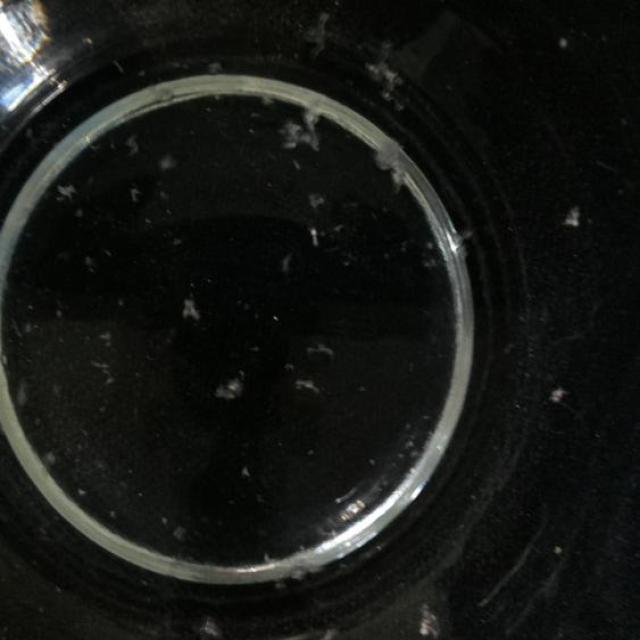fiber: (363, 32, 418, 111), (298, 0, 341, 67), (286, 104, 324, 161), (375, 131, 407, 196), (210, 360, 244, 412), (412, 595, 449, 639), (48, 172, 91, 208), (40, 435, 70, 478), (290, 366, 323, 404), (199, 608, 239, 639), (307, 322, 338, 361), (116, 127, 142, 173), (177, 296, 210, 332), (158, 146, 184, 190), (93, 354, 122, 391), (548, 378, 569, 423), (10, 374, 32, 416), (124, 181, 153, 211), (562, 207, 586, 241), (172, 518, 193, 552), (301, 218, 324, 248), (258, 84, 283, 108), (97, 316, 118, 343), (204, 57, 225, 78), (72, 483, 91, 505), (321, 620, 343, 639), (309, 184, 322, 212), (104, 506, 118, 524)
